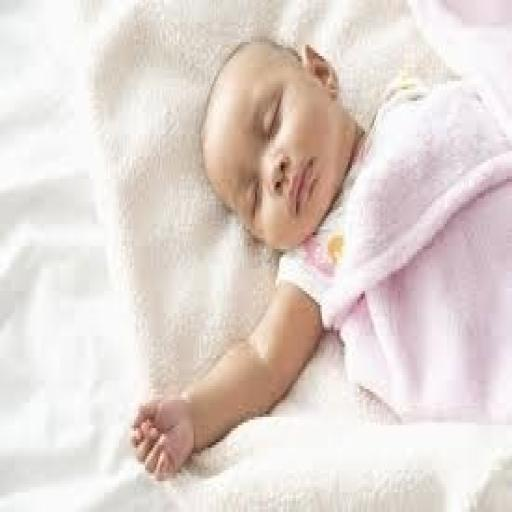sleeping: (127, 28, 510, 484)
